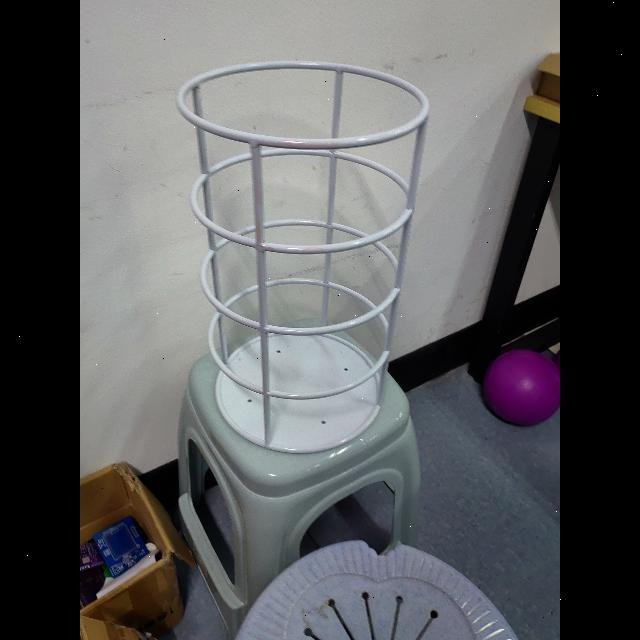S: (170, 58, 432, 458)
